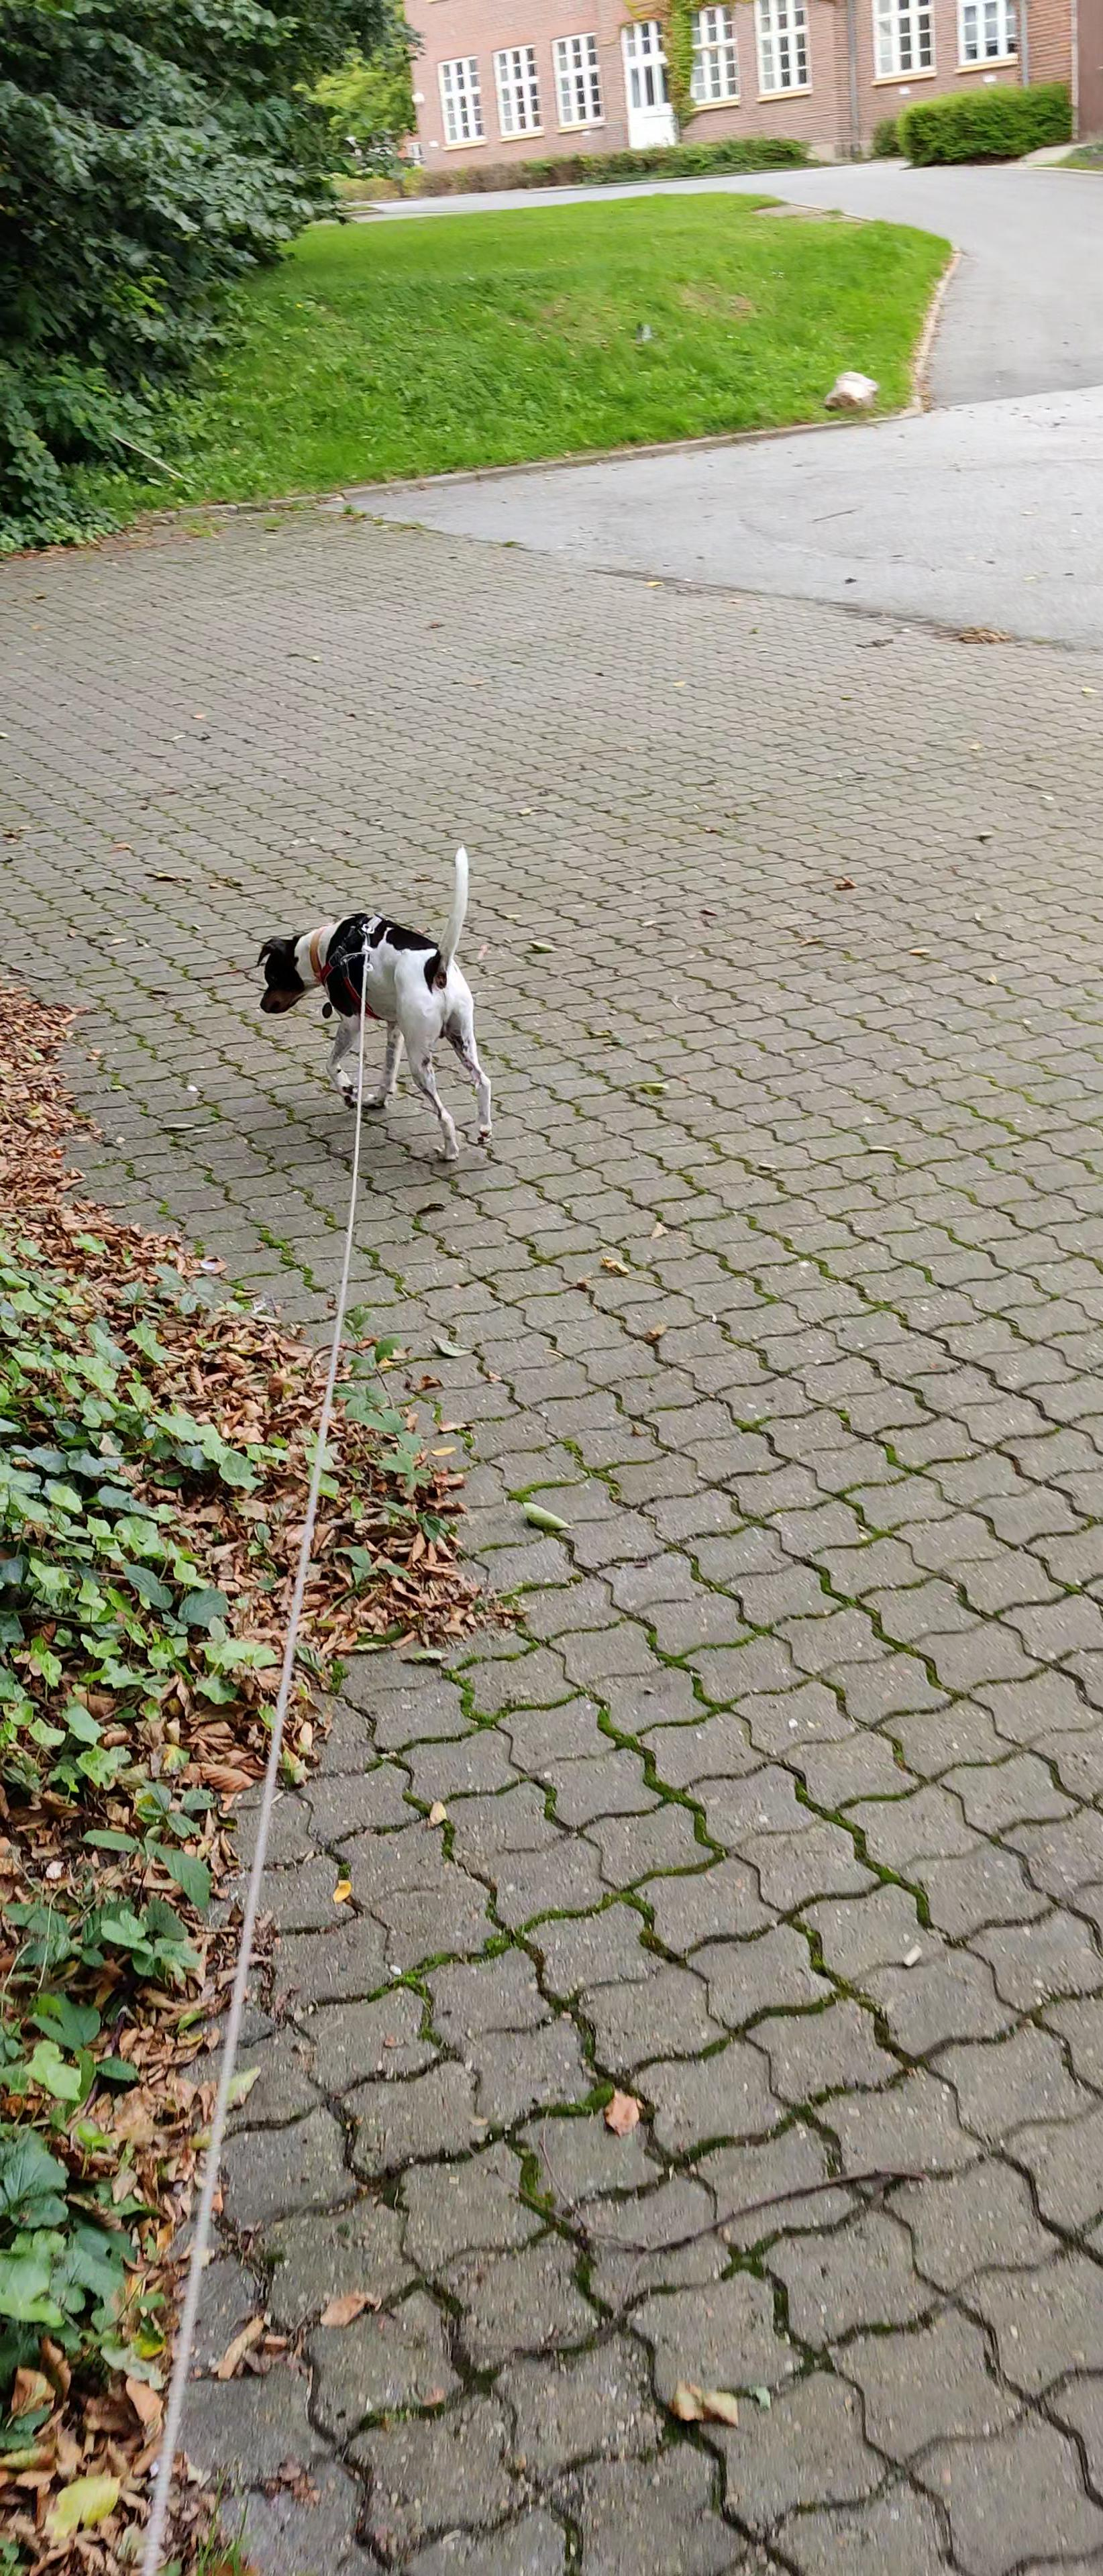Dog: (228, 820, 505, 1166)
